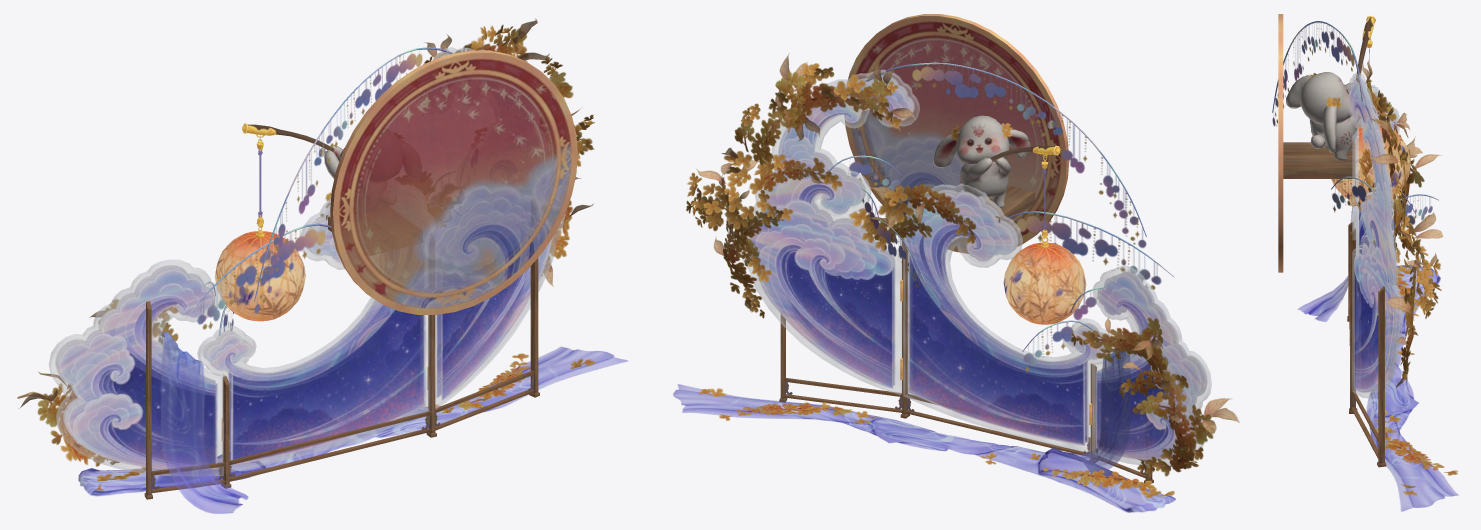
File: furniture-21287.glb
3 renders of one model, left to right at view 1: azimuth 30°, elevation 25°; view 2: azimuth 150°, elevation 25°; view 3: azimuth 270°, elevation 25°, orthographic. The views are drawn at different scales.
Size of the model in its own units: 7.07 by 4.48 by 2.09.
Materials: 2 (2 with a texture image).
